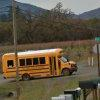Bus: (0, 43, 78, 83)
